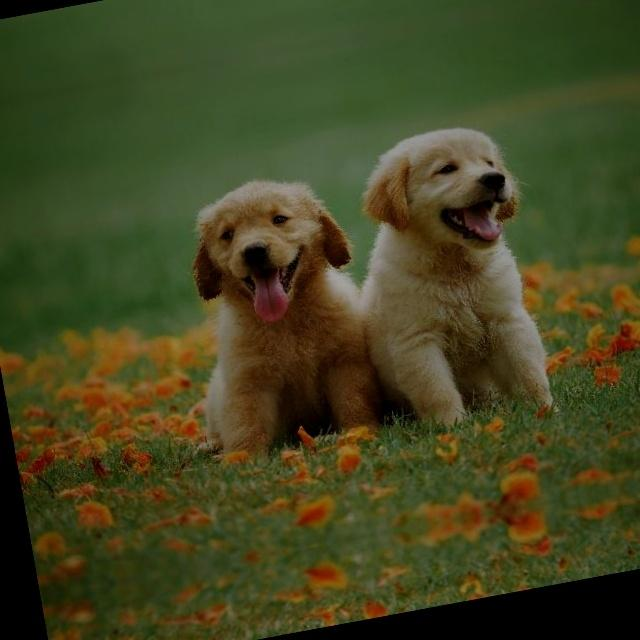dog: (335, 101, 581, 447), (154, 136, 386, 473)
